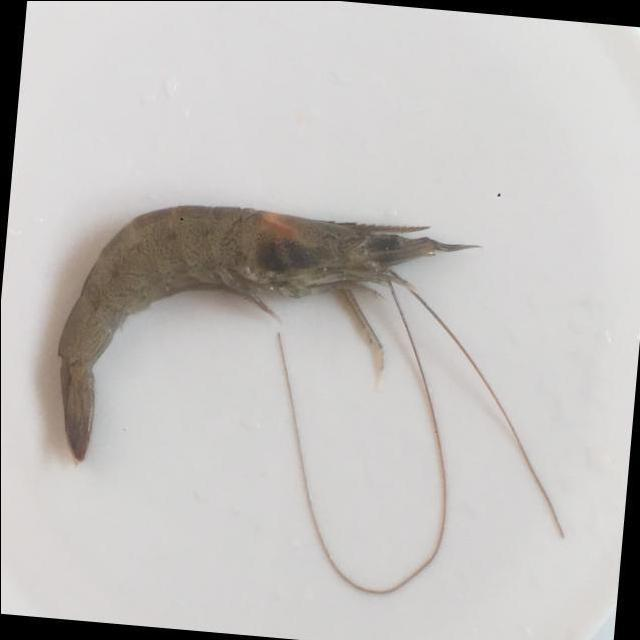shrimp: (57, 205, 471, 461)
